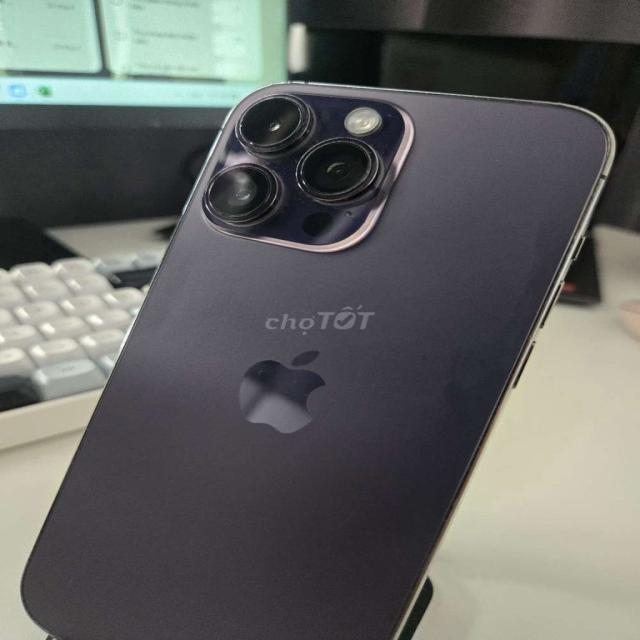gen_14: (18, 74, 620, 640)
